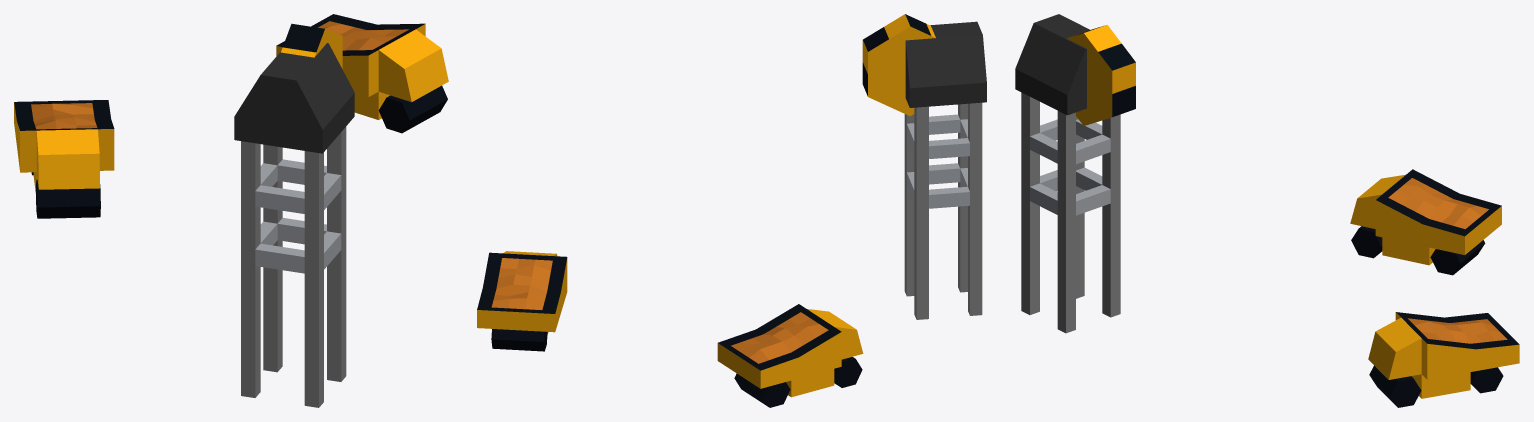
The model's file is Border_4_exploring.fbx.
The picture shows the model from 3 angles, left to right: view 1: azimuth 30°, elevation 25°; view 2: azimuth 150°, elevation 25°; view 3: azimuth 270°, elevation 25°; orthographic projection. The views are drawn at different scales.
Parts seen in each view (by area): view 1: Cube.008, Cube.012, Cube.009, Cylinder.004; view 2: Cube.008, Cube.012, Cube.009, Cylinder.004; view 3: Cube.008, Cube.009, Cube.012, Cylinder.004.
Part boxes in pixels (<box>): Cube.008: <box>234,43,354,407</box>; Cube.012: <box>14,100,114,218</box>; Cube.009: <box>276,14,448,133</box>; Cylinder.004: <box>281,23,342,68</box>; Cube.008: <box>904,21,986,319</box>; Cube.012: <box>717,304,863,407</box>; Cube.009: <box>477,251,567,351</box>; Cylinder.004: <box>862,14,935,116</box>; Cube.008: <box>1015,14,1120,333</box>; Cube.009: <box>1368,312,1519,407</box>; Cube.012: <box>1350,169,1501,275</box>; Cylinder.004: <box>1066,24,1135,125</box>.
Bounding box in the file's own units: 202 × 158 × 244.
